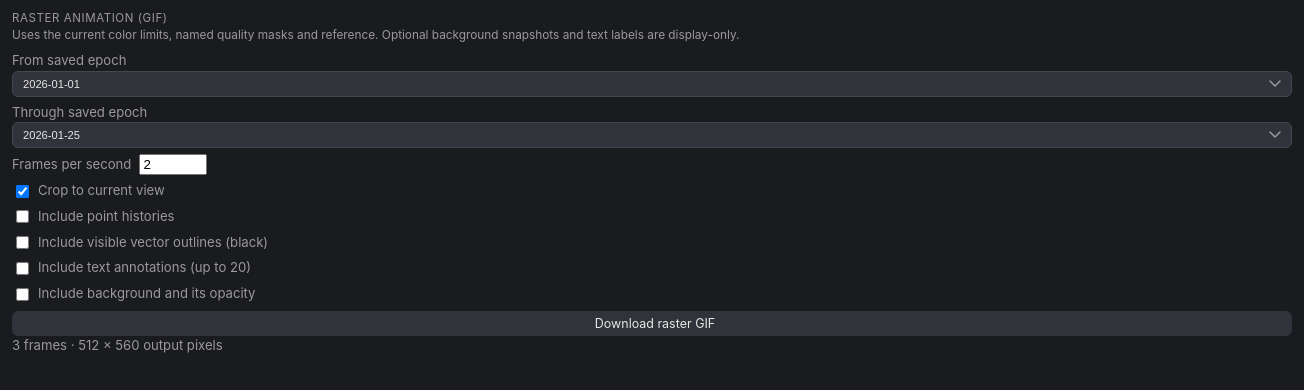
Test: vector outline limits › shows the reason from a validation list returned by the export
The width and height of the screenshot is (1304, 390).
Click the button "Download raster GIF": (652, 323) [12, 311, 1292, 336]
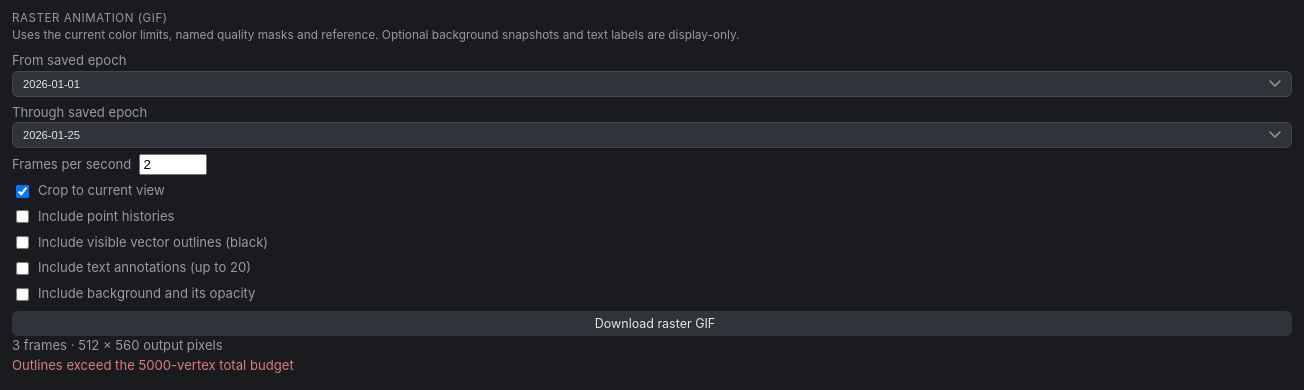
Result: the message reads "Outlines exceed the 5000-vertex total budget" at [12, 356, 294, 372]
